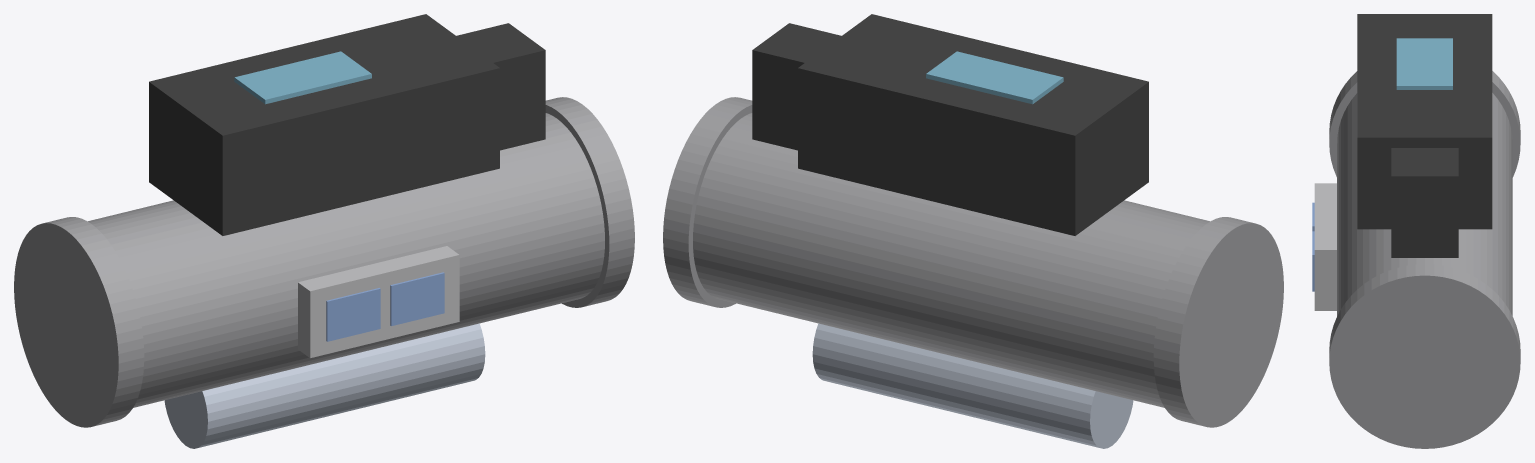
Rendered from Nurdle_DNA_Colored.glb.
3 renders of one model, left to right at view 1: azimuth 30°, elevation 25°; view 2: azimuth 150°, elevation 25°; view 3: azimuth 270°, elevation 25°, orthographic. The views are drawn at different scales.
Parts seen in each view (by area): view 1: world; view 2: world; view 3: world.
Part boxes in pixels (x1,y1,x2,y2): world: (14, 14, 634, 448); world: (663, 14, 1283, 448); world: (1312, 14, 1520, 448).
Bounding box in the file's own units: 242 × 153 × 92.5.
